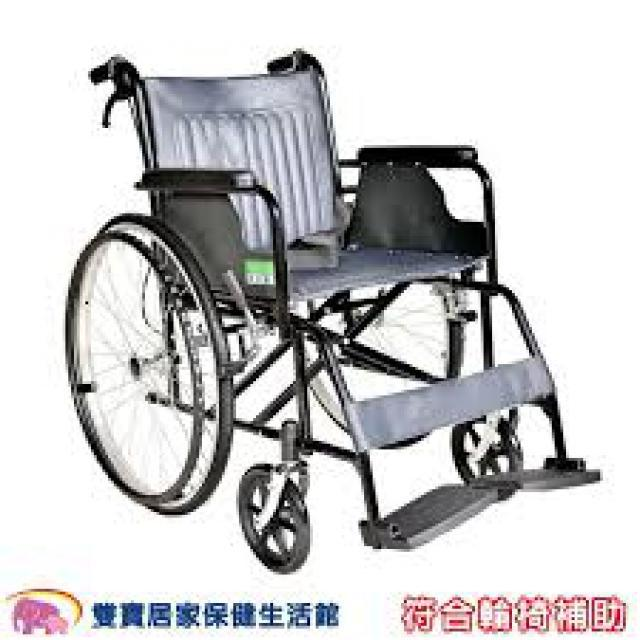wheelchair: (59, 42, 600, 572)
